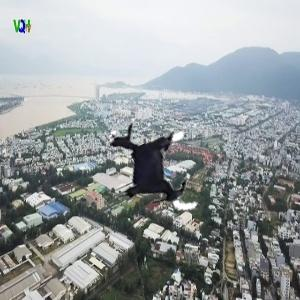drone: (97, 105, 220, 228)
